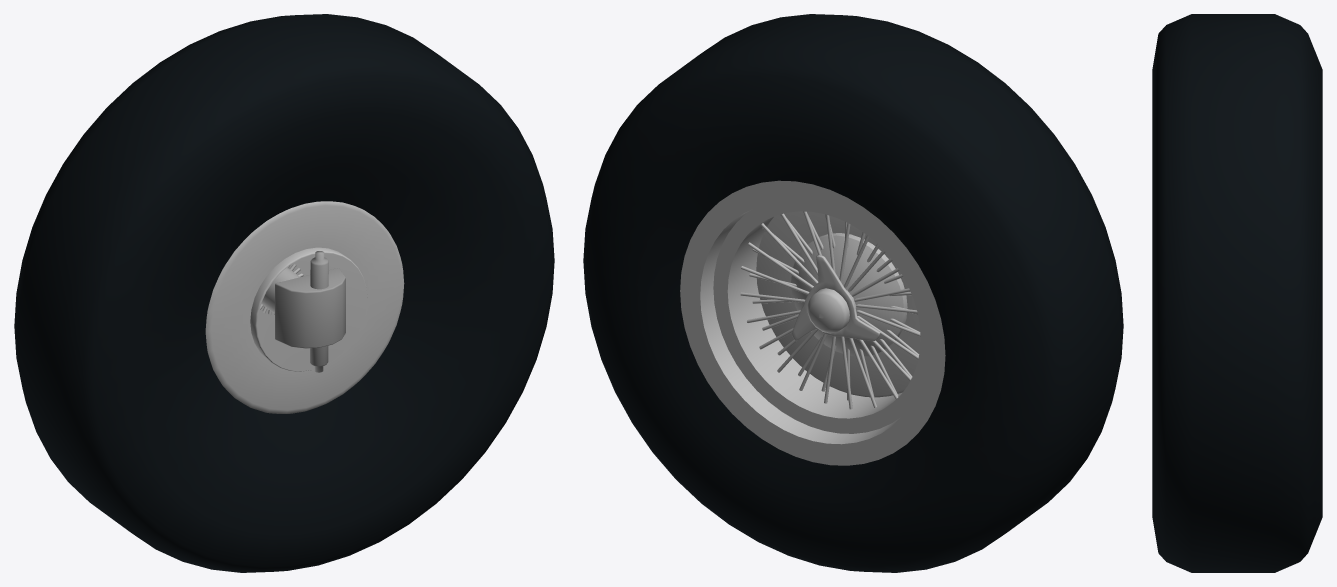
Rendered from wheel.obj.
3 views of the same model, side by side, from view 1: azimuth 30°, elevation 25°; view 2: azimuth 150°, elevation 25°; view 3: azimuth 270°, elevation 25° (orthographic).
Visible parts, largest first — view 1: Back_Tire_Rubber_Low, Back_Tire_Plate_Low, Compresssor_Back_Low, Back_Big_Tire_Support_Nail_Low; view 2: Back_Tire_Rubber_Low, Back_Tire_Metal_Rim_Low, Back_Tire_Plate_Low, Back_Alloys_Low, Back_Triangle_Low, Pole_Back_Low; view 3: Back_Tire_Rubber_Low.
Boxes of the visible parts, x1,y1,x2,y2 form: Back_Tire_Rubber_Low: (14,14,554,572); Back_Tire_Plate_Low: (205,201,404,413); Compresssor_Back_Low: (275,268,345,348); Back_Big_Tire_Support_Nail_Low: (310,251,328,372); Back_Tire_Rubber_Low: (583,14,1123,572); Back_Tire_Metal_Rim_Low: (680,180,945,465); Back_Tire_Plate_Low: (756,211,920,397); Back_Alloys_Low: (740,211,920,409); Back_Triangle_Low: (792,255,880,341); Pole_Back_Low: (807,288,855,333); Back_Tire_Rubber_Low: (1152,14,1322,572).
Size of the model in its own units: 0.3903 by 0.3903 by 0.1188.
